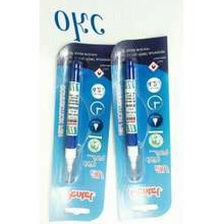book: (46, 40, 122, 223), (108, 33, 172, 224)
correction_fluid: (120, 55, 145, 184), (60, 58, 83, 186)
